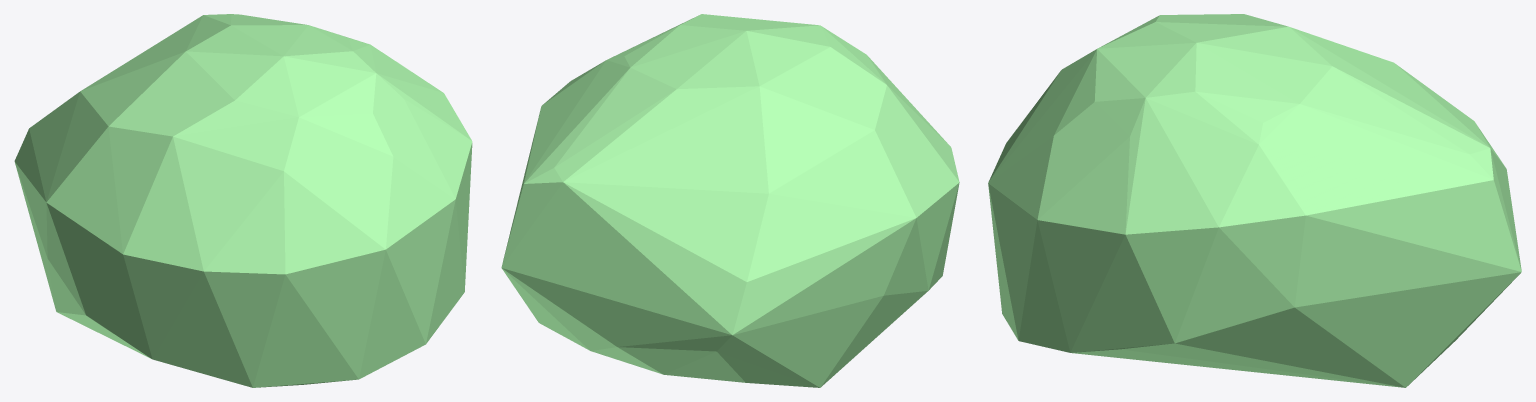
The model's file is dualpanda_Panda_leftArm_link5_respondable_coll_3.dae.
3 views of the same model, side by side, from view 1: azimuth 30°, elevation 25°; view 2: azimuth 150°, elevation 25°; view 3: azimuth 270°, elevation 25° (orthographic). The views are drawn at different scales.
Parts seen in each view (by area): view 1: node; view 2: node; view 3: node.
Part boxes in pixels (box(x1,y1,x2,y2)): node: box(14, 14, 472, 387); node: box(501, 14, 959, 387); node: box(988, 14, 1521, 387).
Bounding box in the file's own units: 0.1011 × 0.0703 × 0.1134.
